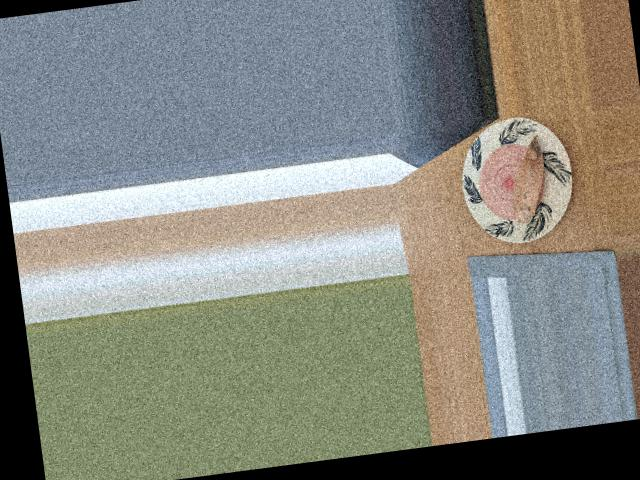sweet_potato: (500, 141, 557, 223)
